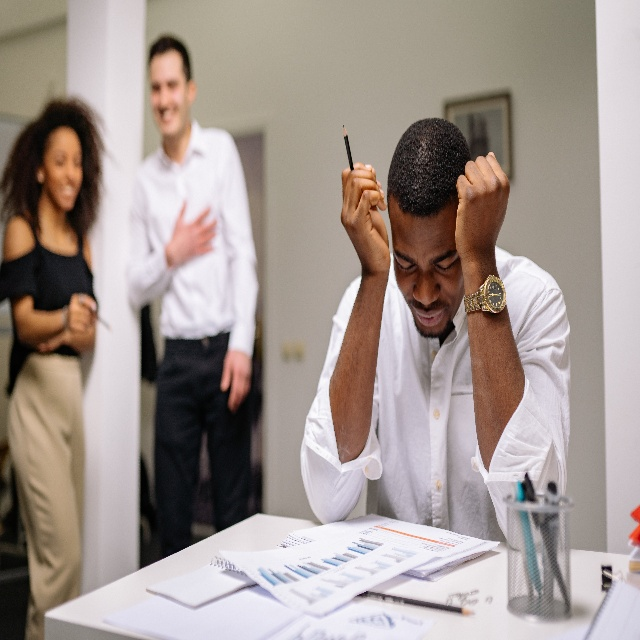Sin_guantes: (454, 150, 510, 262), (338, 161, 391, 273), (165, 197, 222, 267), (220, 347, 254, 409), (66, 292, 97, 334)
